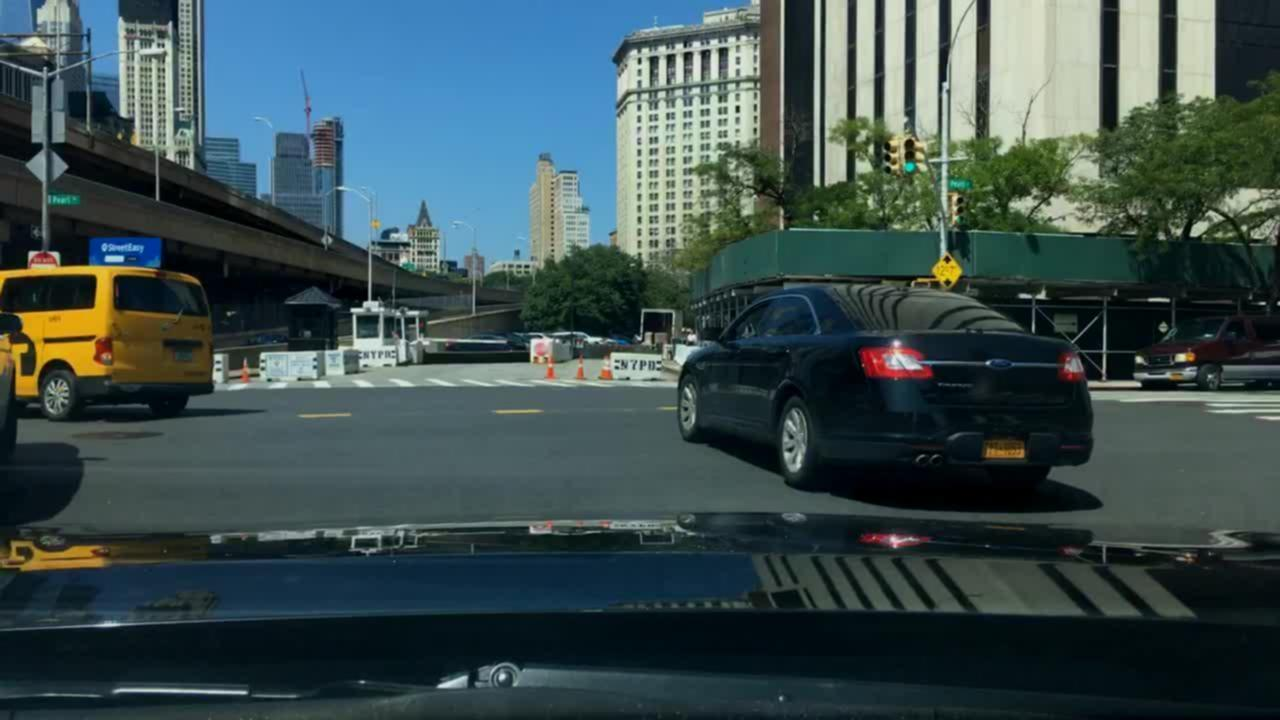ford: (975, 352, 1023, 375)
